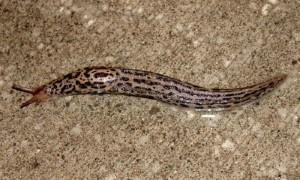slug: (7, 51, 290, 121)
